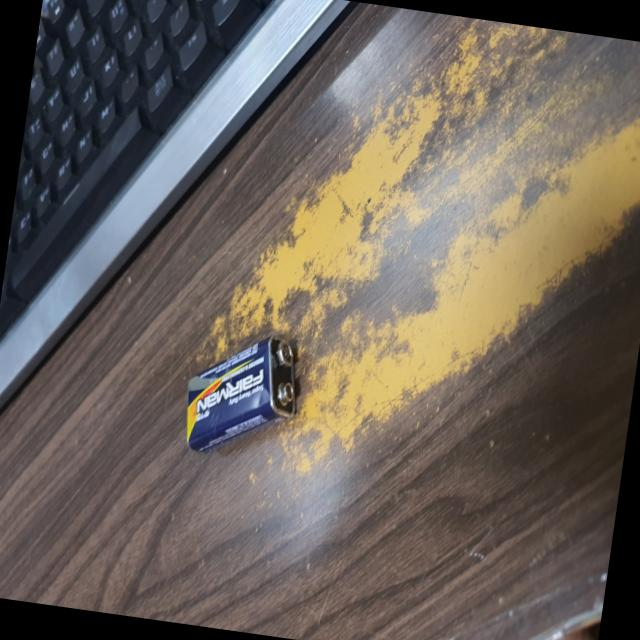battery-etc-etc: (168, 316, 314, 472)
